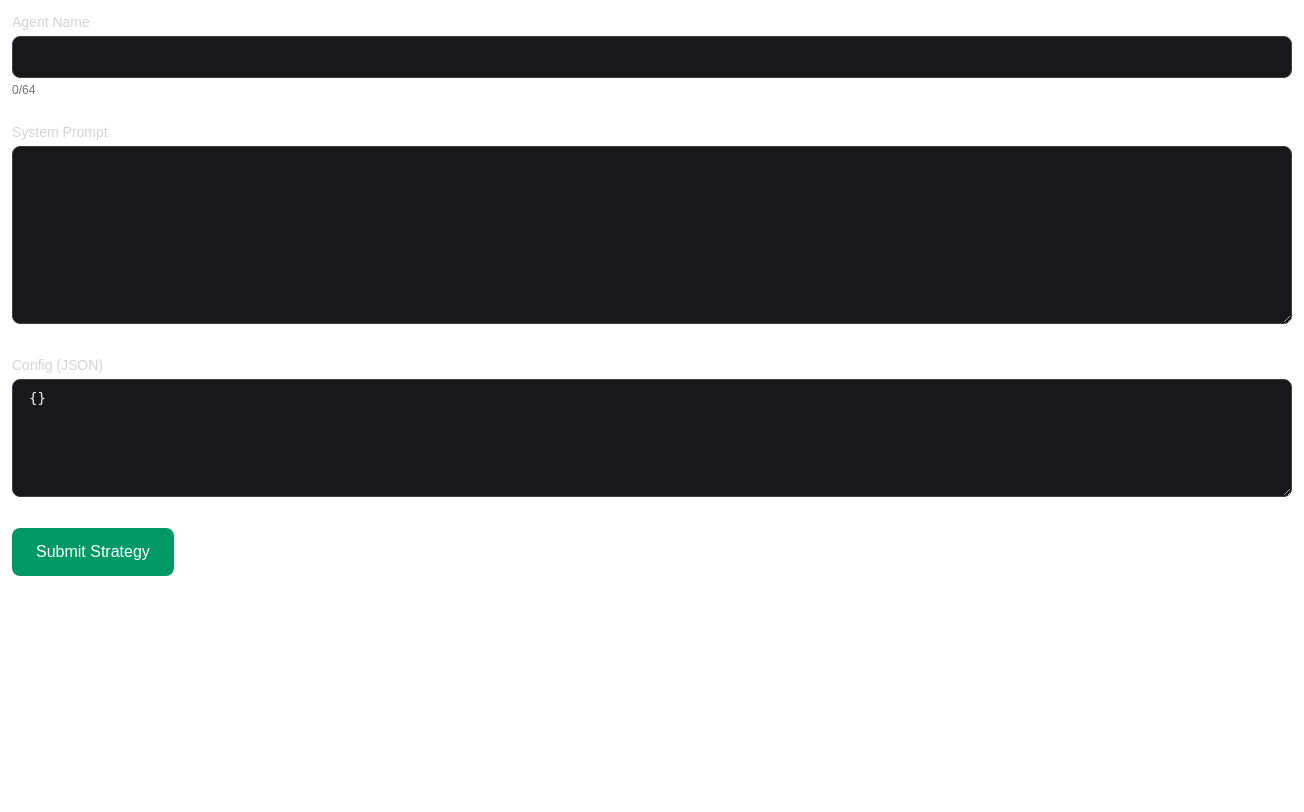
it: SubmitForm › shows error when agent name is empty on submit
Type "Test prompt" into the text box labelled "System Prompt" at (652, 235), box [12, 146, 1292, 324]
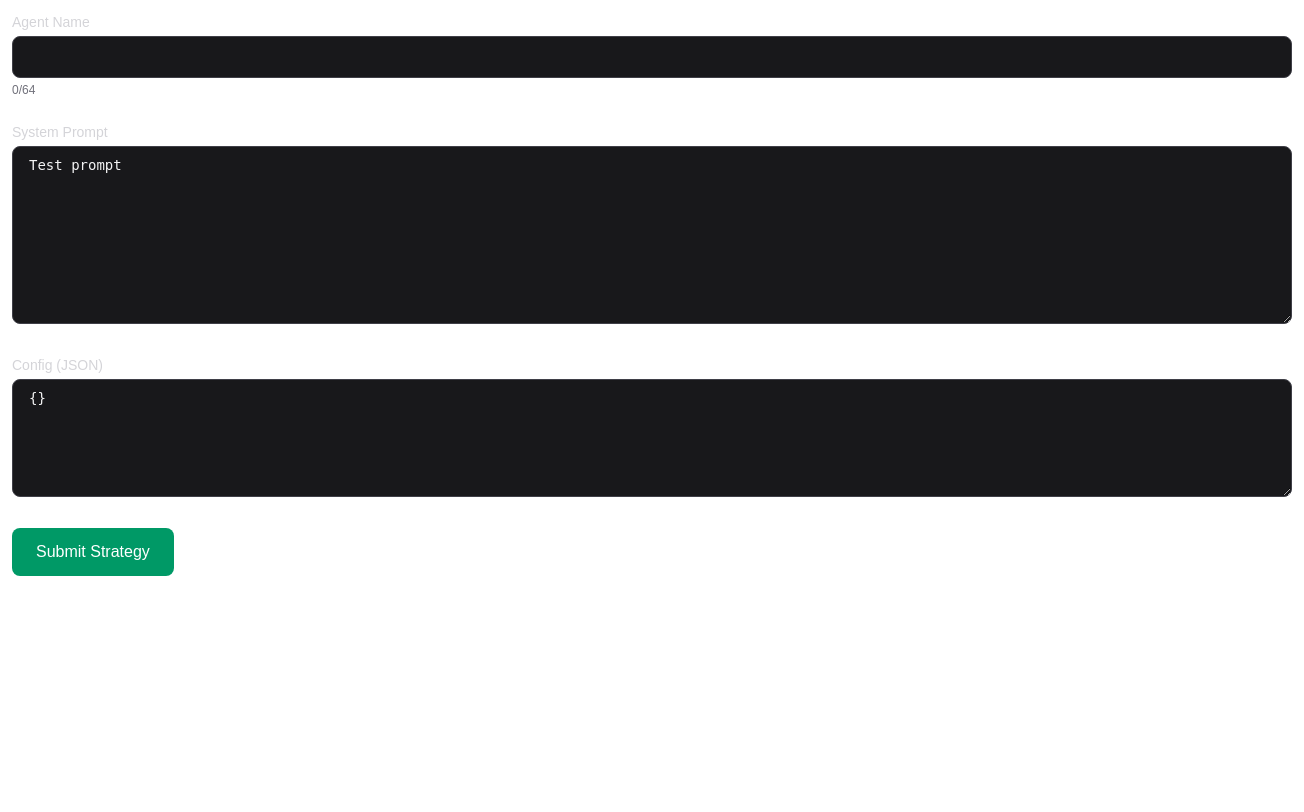
Submit the form "Agent Name 0/64 System Prompt Config (JSON) Submit Strategy"
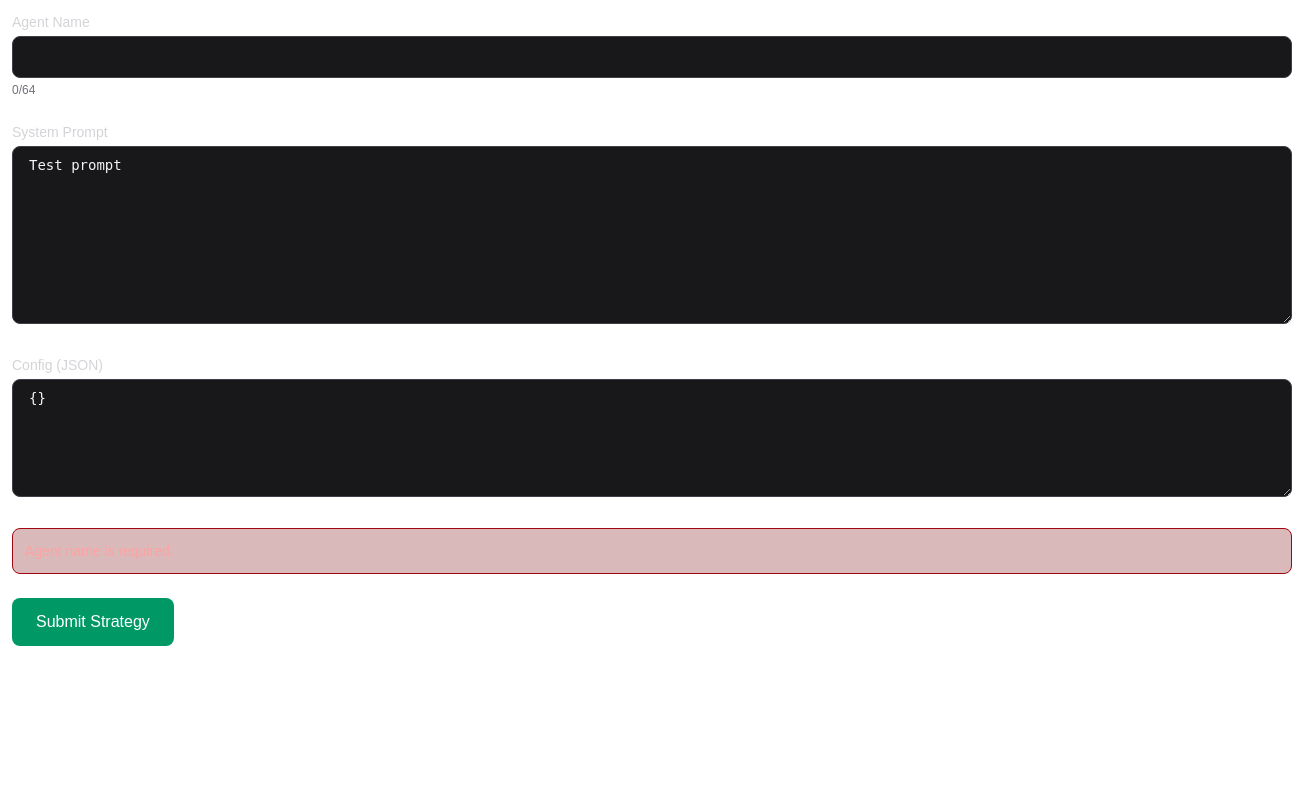
Check: the message reads "Agent name is required.", box [25, 543, 174, 559]
